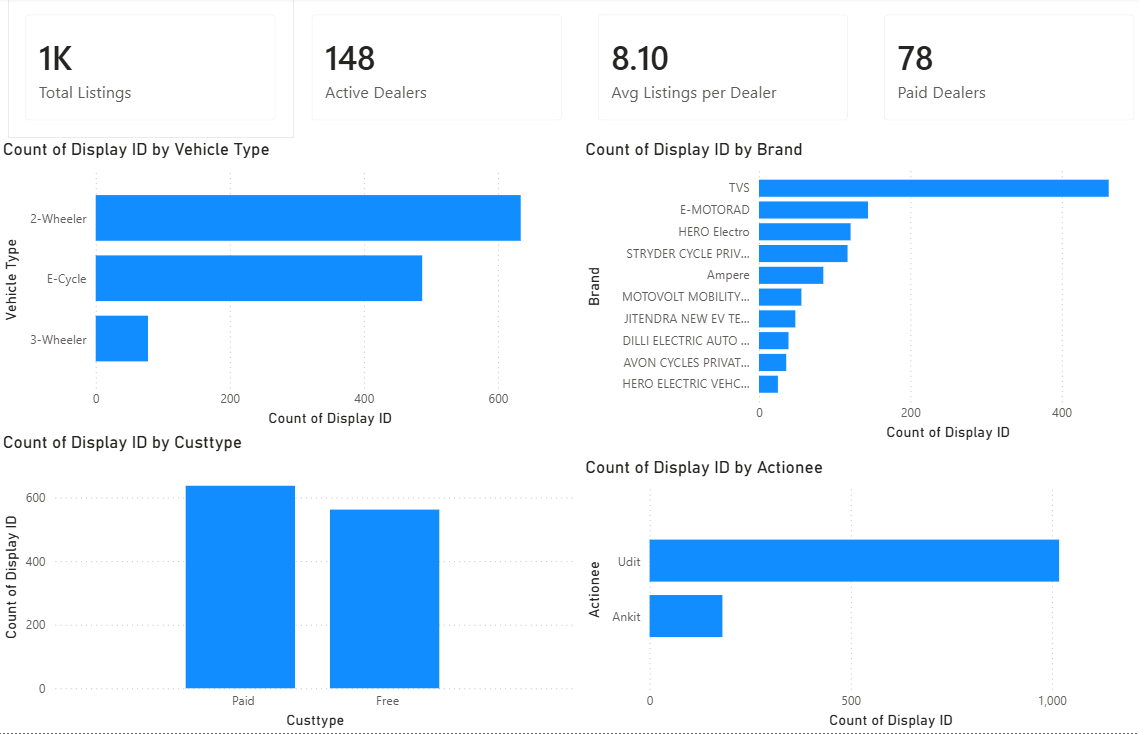

Layout of this report page (visuals, bound fields, positions):
{"tool":"powerbi","page":{"name":"Listing & Seller Intelligence","canvas":[1280,720],"ordinal":3},"visuals":[{"type":"cardVisual","fields":{"Data":["PDPs Created.Total Listings"]},"box":[9.6,0,279.9,138.6],"z":0},{"type":"cardVisual","fields":{"Data":["PDPs Created.Active Dealers"]},"box":[289.5,0,279.9,138.6],"z":1000},{"type":"cardVisual","fields":{"Data":["PDPs Created.Avg Listings per Dealer"]},"box":[569.5,0,279.9,138.6],"z":2000},{"type":"cardVisual","fields":{"Data":["PDPs Created.Paid Dealers"]},"box":[849.4,0,279.9,138.6],"z":3000},{"type":"barChart","fields":{"Category":["PDPs Created.Vehicle Type"],"Y":["CountNonNull(PDPs Created.Display ID)"]},"box":[0,138.2,569.8,287.4],"z":4000},{"type":"barChart","fields":{"Category":["PDPs Created.Brand"],"Y":["CountNonNull(PDPs Created.Display ID)"]},"box":[569.8,138.2,560.1,300.8],"z":5000},{"type":"clusteredColumnChart","fields":{"Category":["PDPs Created.Custtype"],"Y":["CountNonNull(PDPs Created.Display ID)"]},"box":[0,425.5,569.8,294.7],"z":6000},{"type":"barChart","fields":{"Category":["PDPs Created.Actionee"],"Y":["CountNonNull(PDPs Created.Display ID)"]},"box":[569.8,450,560.1,270.2],"z":7000}]}

Visuals, with their boxes on the page's 1280x720 design canvas (x1, y1, x2, y2). These are canvas units, not pixel positions in the 1139x734 screenshot, which may show the page scaled, cropped or inside an application window:
cardVisual - PDPs Created.Total Listings: 10:0:290:139
cardVisual - PDPs Created.Active Dealers: 290:0:569:139
cardVisual - PDPs Created.Avg Listings per Dealer: 570:0:849:139
cardVisual - PDPs Created.Paid Dealers: 849:0:1129:139
barChart - PDPs Created.Vehicle Type x CountNonNull(PDPs Created.Display ID): 0:138:570:426
barChart - PDPs Created.Brand x CountNonNull(PDPs Created.Display ID): 570:138:1130:439
clusteredColumnChart - PDPs Created.Custtype x CountNonNull(PDPs Created.Display ID): 0:426:570:720
barChart - PDPs Created.Actionee x CountNonNull(PDPs Created.Display ID): 570:450:1130:720
